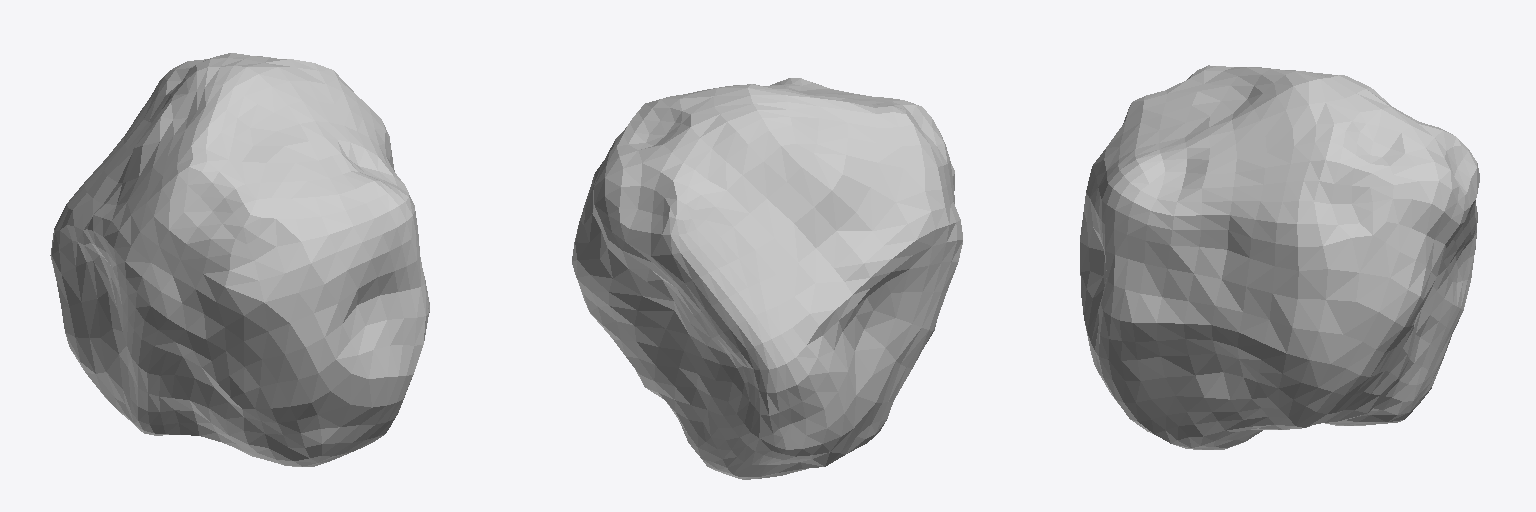
Rendered from asteroide3.obj.
3 views of the same model, side by side, from view 1: azimuth 30°, elevation 25°; view 2: azimuth 150°, elevation 25°; view 3: azimuth 270°, elevation 25° (orthographic).
Visible parts, largest first — view 1: Asteroid_no_3; view 2: Asteroid_no_3; view 3: Asteroid_no_3.
Boxes of the visible parts, box(x1,y1,x2,y2) form: Asteroid_no_3: box(50, 53, 429, 466); Asteroid_no_3: box(572, 78, 962, 479); Asteroid_no_3: box(1080, 65, 1479, 449).
Bounding box in the file's own units: 6.64 × 7.2 × 7.38.